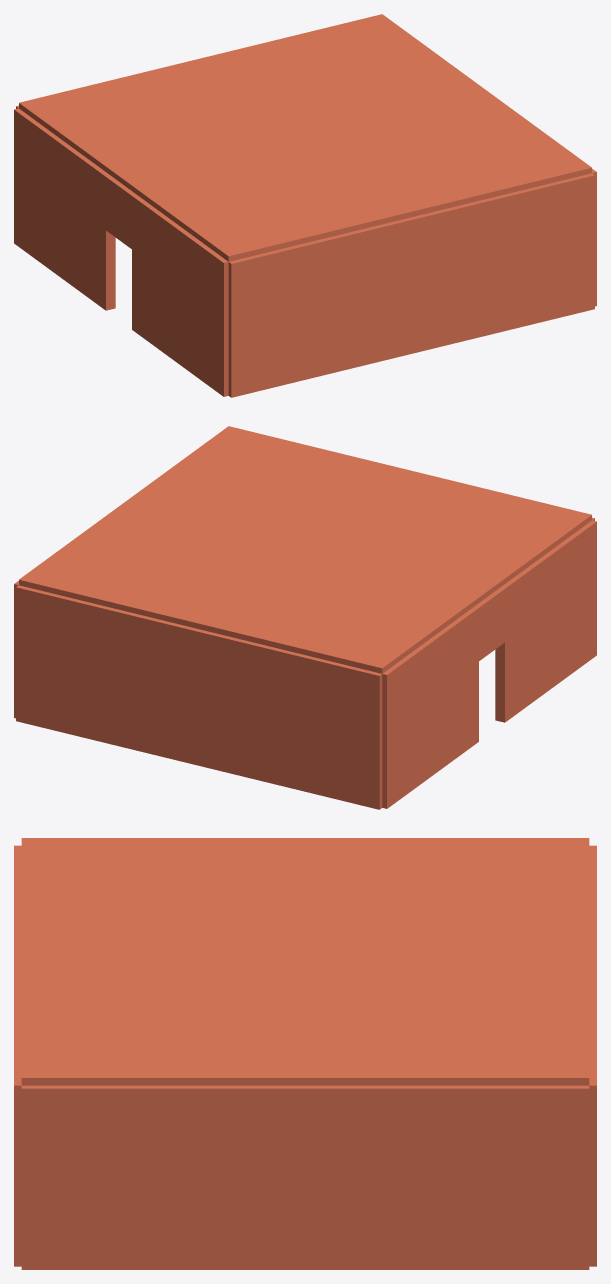
Rendered from house.glb.
The picture shows the model from 3 angles, top to bottom: view 1: azimuth 30°, elevation 25°; view 2: azimuth 150°, elevation 25°; view 3: azimuth 270°, elevation 25°; orthographic projection. The views are drawn at different scales.
Visible parts, largest first — view 1: Cube.005, Cube.002, Cube.001; view 2: Cube.005, Cube.003, Cube.001; view 3: Cube.005, Cube.004, Cube.003, Cube.002.
Boxes of the visible parts, <box> form: Cube.005: <box>19,14,591,261</box>; Cube.002: <box>228,173,594,397</box>; Cube.001: <box>14,108,228,396</box>; Cube.005: <box>19,426,591,673</box>; Cube.003: <box>16,585,382,809</box>; Cube.001: <box>382,520,596,808</box>; Cube.005: <box>21,838,589,1085</box>; Cube.004: <box>21,1085,589,1269</box>; Cube.003: <box>589,845,596,1266</box>; Cube.002: <box>14,845,21,1266</box>.
Bounding box in the file's own units: 15.4 × 5.5 × 15.4.
